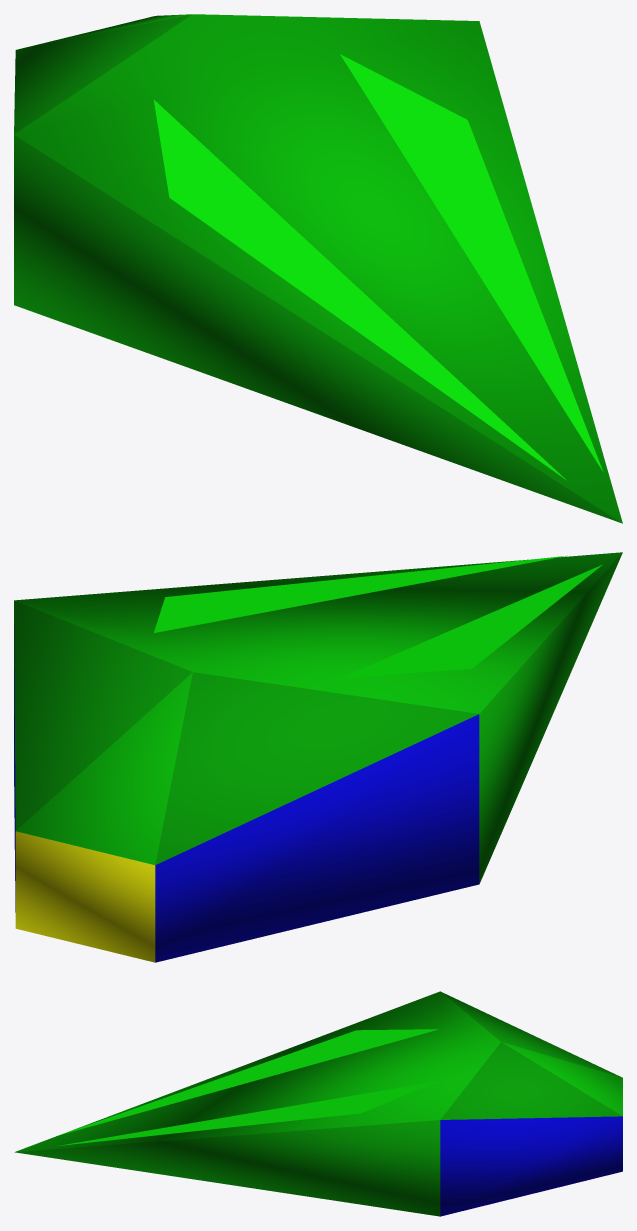
File: ferdelance.gltf
The picture shows the model from 3 angles, top to bottom: view 1: azimuth 30°, elevation 25°; view 2: azimuth 150°, elevation 25°; view 3: azimuth 270°, elevation 25°; orthographic projection. The views are drawn at different scales.
Visible parts, largest first — view 1: Ship_None; view 2: Ship_None; view 3: Ship_None.
Boxes of the visible parts, <box> form: Ship_None: <box>14,14,622,523</box>; Ship_None: <box>14,552,622,962</box>; Ship_None: <box>14,991,622,1216</box>.
Bounding box in the file's own units: 0.01 × 0.00405 × 0.02.
